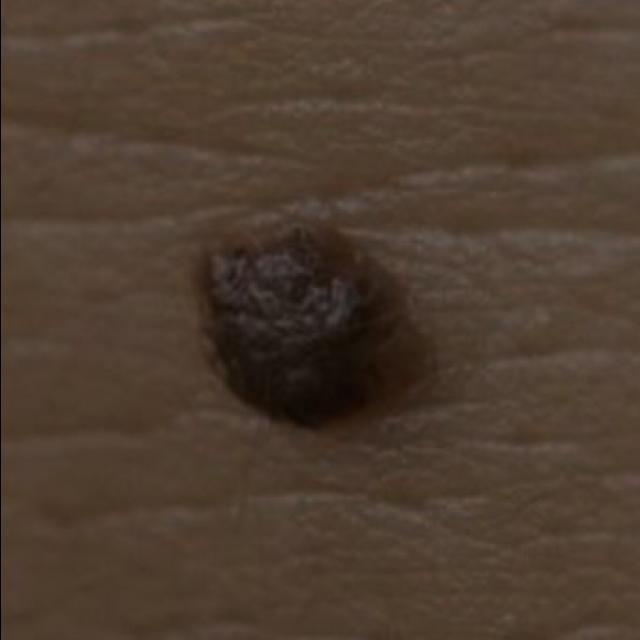wart: (168, 148, 462, 478)
